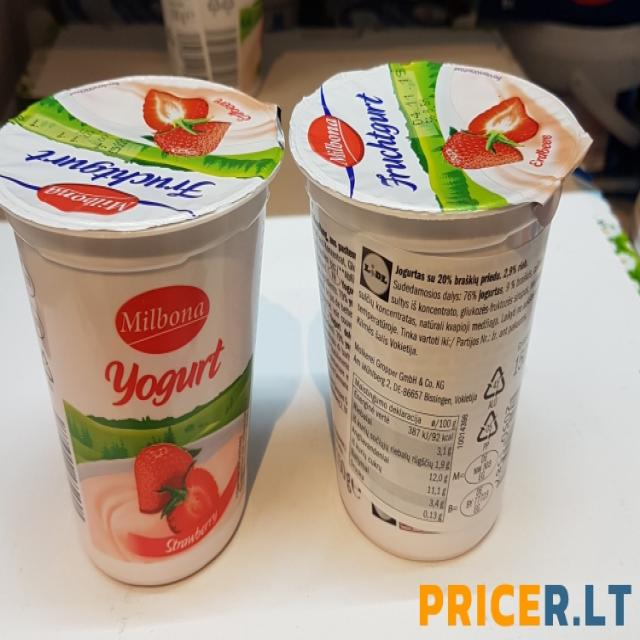yogurt: (288, 60, 596, 568), (0, 72, 282, 592)
